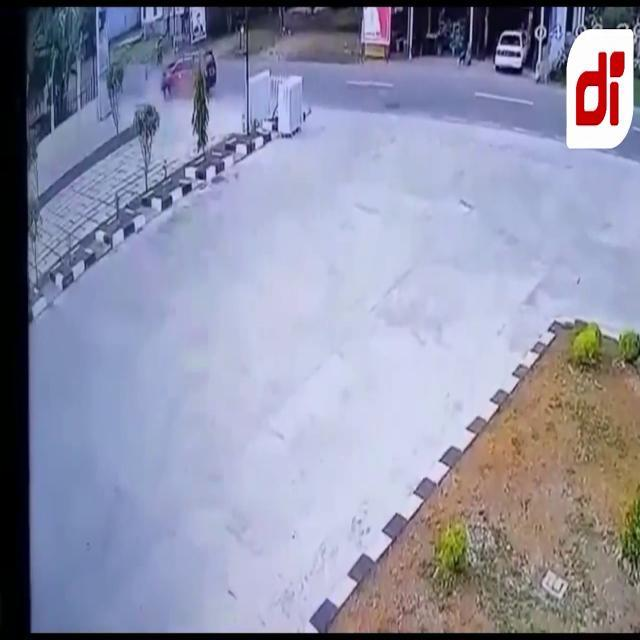single accident: (137, 35, 237, 112)
